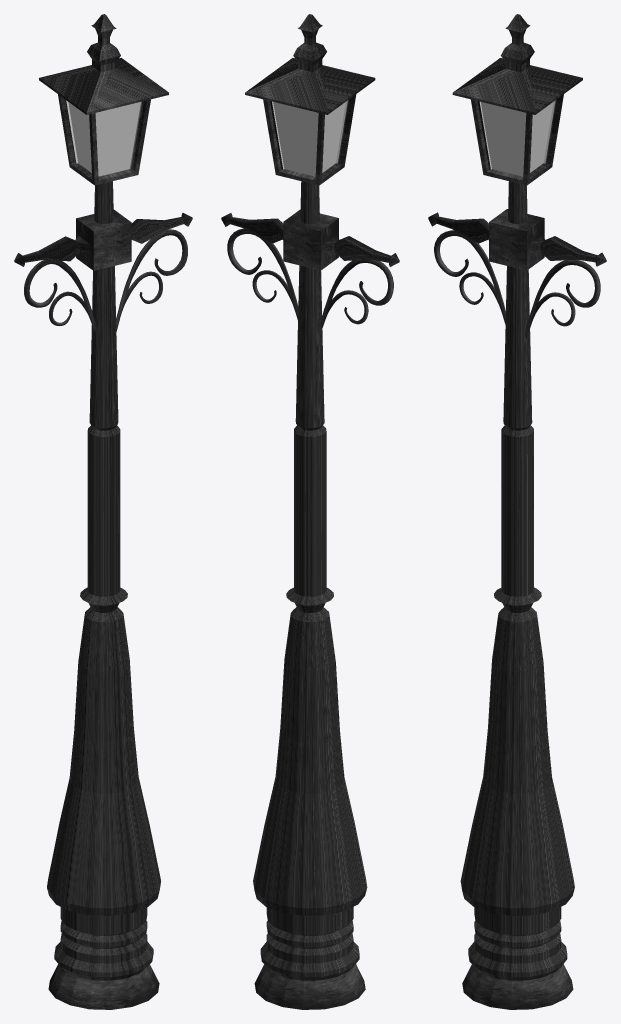
The model's file is Lamp_Deco.fbx.
3 views of the same model, side by side, from view 1: azimuth 30°, elevation 25°; view 2: azimuth 150°, elevation 25°; view 3: azimuth 330°, elevation 25° (orthographic).
Parts seen in each view (by area): view 1: Lamp_Deco_LOD0; view 2: Lamp_Deco_LOD0; view 3: Lamp_Deco_LOD0.
Boxes of the visible parts, box(x1,y1,x2,y2) form: Lamp_Deco_LOD0: box(14, 14, 192, 1009); Lamp_Deco_LOD0: box(221, 14, 399, 1009); Lamp_Deco_LOD0: box(428, 14, 606, 1009).
Size of what is drawn, in the model's own units: 328 by 1712 by 184.
